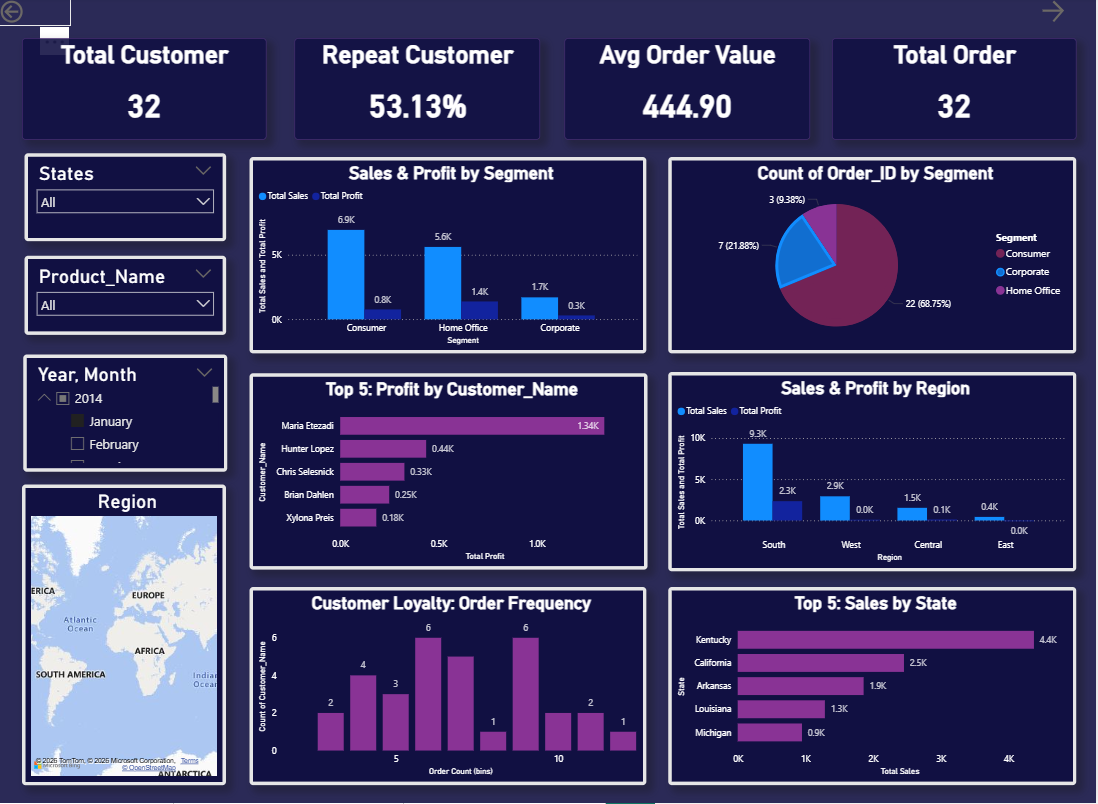

Layout of this report page (visuals, bound fields, positions):
{"tool":"powerbi","page":{"name":"Customer Centric Dashboard","canvas":[1500,1100],"ordinal":1},"visuals":[{"type":"actionButton","box":[0,0,100,40],"z":0},{"type":"pieChart","fields":{"Category":["Table2.Segment"],"Y":["Count(Table2.Order_ID)"]},"box":[916.7,218.3,556.7,268.3],"z":1000},{"type":"clusteredColumnChart","title":"Sales & Profit by Segment","fields":{"Category":["Table2.Segment"],"Y":["Table2.Total Sales","Table2.Total Profit"]},"box":[345,218.3,541.7,268.3],"z":2000},{"type":"clusteredColumnChart","title":"Sales & Profit by Region","fields":{"Category":["Table2.Region"],"Y":["Table2.Total Sales","Table2.Total Profit"]},"box":[916.7,511.7,556.7,271.7],"z":3000},{"type":"clusteredBarChart","title":"Top 5: Profit by Customer_Name","fields":{"Category":["Table2.Customer_Name"],"Y":["Table2.Total Profit"]},"box":[345,513.3,543.3,268.3],"z":4000},{"type":"clusteredBarChart","title":"Top 5: Sales by State","fields":{"Category":["Table2.State"],"Y":["Table2.Total Sales"]},"box":[916.7,805,556.7,270],"z":5000},{"type":"clusteredColumnChart","title":"Customer Loyalty: Order Frequency","fields":{"Category":["Customer Orders.Order Count (bins)"],"Y":["CountNonNull(Customer Orders.Customer_Name)"]},"box":[345,805,541.7,270],"z":6000},{"type":"slicer","title":"State","fields":{"Values":["Table2.State"]},"box":[38.3,213.3,275,120],"z":7000},{"type":"slicer","title":"Product Name","fields":{"Values":["Table2.Product_Name"]},"box":[38.3,353.3,275,108.3],"z":8000},{"type":"slicer","fields":{"Values":["Table2.Order_Date.Variation.Date Hierarchy.Year","Table2.Order_Date.Variation.Date Hierarchy.Month"]},"box":[35,488.3,278.3,160],"z":9000},{"type":"card","title":"Total Customer","fields":{"Values":["Count(Table2.Customer_Name)"]},"box":[33.3,56.7,333.3,138.3],"z":10000},{"type":"card","title":"Total Order ","fields":{"Values":["Count(Table2.Order_ID)"]},"box":[1140,56.7,333.3,138.3],"z":11000},{"type":"card","title":"Avg Order Value","fields":{"Values":["Table2.Average Order Value"]},"box":[775,56.7,335,138.3],"z":12000},{"type":"card","title":"Repeat Customer","fields":{"Values":["Table2.Repeat Customer %"]},"box":[406.7,56.7,335,138.3],"z":13000},{"type":"map","fields":{"Category":["Table2.Region","Table2.State","Table2.City"]},"box":[33.3,665,278.3,410],"z":14000},{"type":"actionButton","box":[1421.1,0,51.2,39.2],"z":15000}]}

Visuals, with their boxes in screenshot pixels (x1, y1, x2, y2), scaled from the page's 1500x1100 canvas onto the 1098x804 screenshot:
actionButton: (x1=0, y1=0, x2=73, y2=29)
pieChart - Table2.Segment x Count(Table2.Order_ID): (x1=671, y1=160, x2=1079, y2=356)
"Sales & Profit by Segment" clusteredColumnChart: (x1=253, y1=160, x2=649, y2=356)
"Sales & Profit by Region" clusteredColumnChart: (x1=671, y1=374, x2=1079, y2=573)
"Top 5: Profit by Customer_Name" clusteredBarChart: (x1=253, y1=375, x2=650, y2=571)
"Top 5: Sales by State" clusteredBarChart: (x1=671, y1=588, x2=1079, y2=786)
"Customer Loyalty: Order Frequency" clusteredColumnChart: (x1=253, y1=588, x2=649, y2=786)
"State" slicer: (x1=28, y1=156, x2=229, y2=244)
"Product Name" slicer: (x1=28, y1=258, x2=229, y2=337)
slicer - Table2.Order_Date.Variation.Date Hierarchy.Year x Table2.Order_Date.Variation.Date Hierarchy.Month: (x1=26, y1=357, x2=229, y2=474)
"Total Customer" card: (x1=24, y1=41, x2=268, y2=143)
"Total Order " card: (x1=834, y1=41, x2=1078, y2=143)
"Avg Order Value" card: (x1=567, y1=41, x2=813, y2=143)
"Repeat Customer" card: (x1=298, y1=41, x2=543, y2=143)
map - Table2.Region x Table2.State: (x1=24, y1=486, x2=228, y2=786)
actionButton: (x1=1040, y1=0, x2=1078, y2=29)
